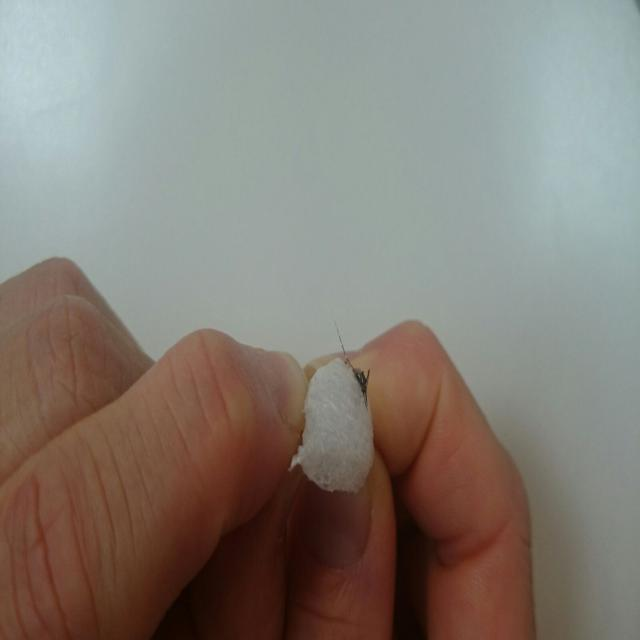albopictus: (322, 312, 380, 426)
